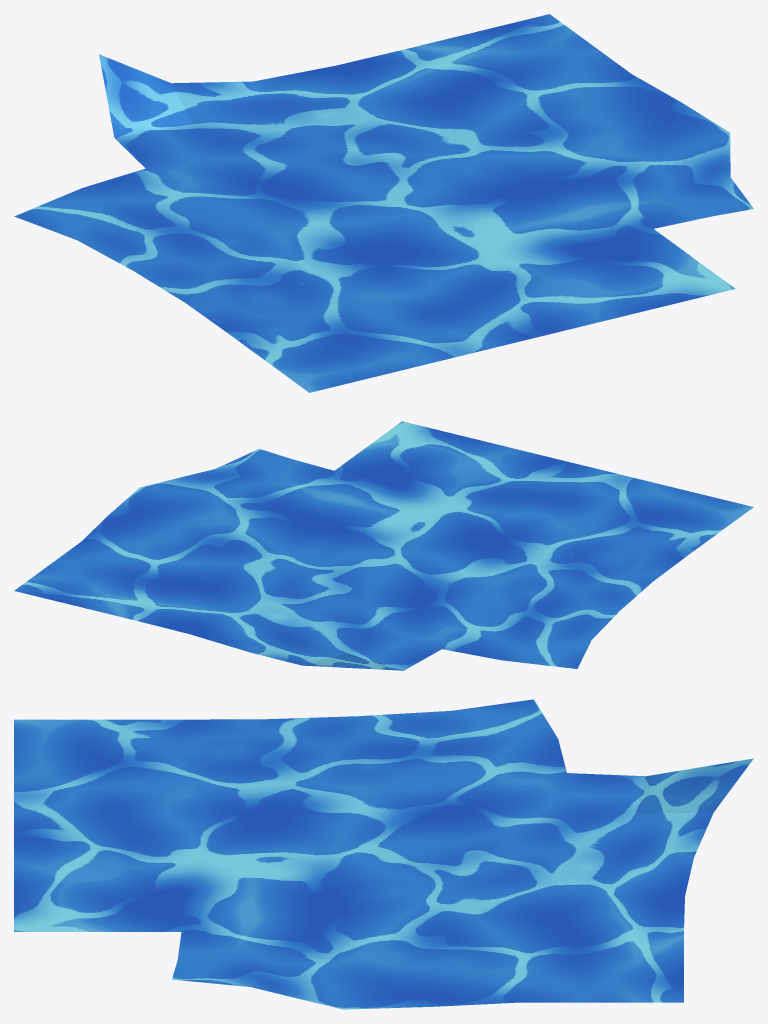
The model's file is SalaLagoVeraoLago.fbx.
3 views of the same model, one above another, from view 1: azimuth 30°, elevation 25°; view 2: azimuth 150°, elevation 25°; view 3: azimuth 270°, elevation 25° (orthographic). The views are drawn at different scales.
Visible parts, largest first — view 1: Lago; view 2: Lago; view 3: Lago.
Boxes of the visible parts, x1,y1,x2,y2 form: Lago: (14, 14, 753, 392); Lago: (14, 421, 753, 670); Lago: (14, 699, 753, 1009).
Size of the model in its own units: 345 by 19.19 by 348.
